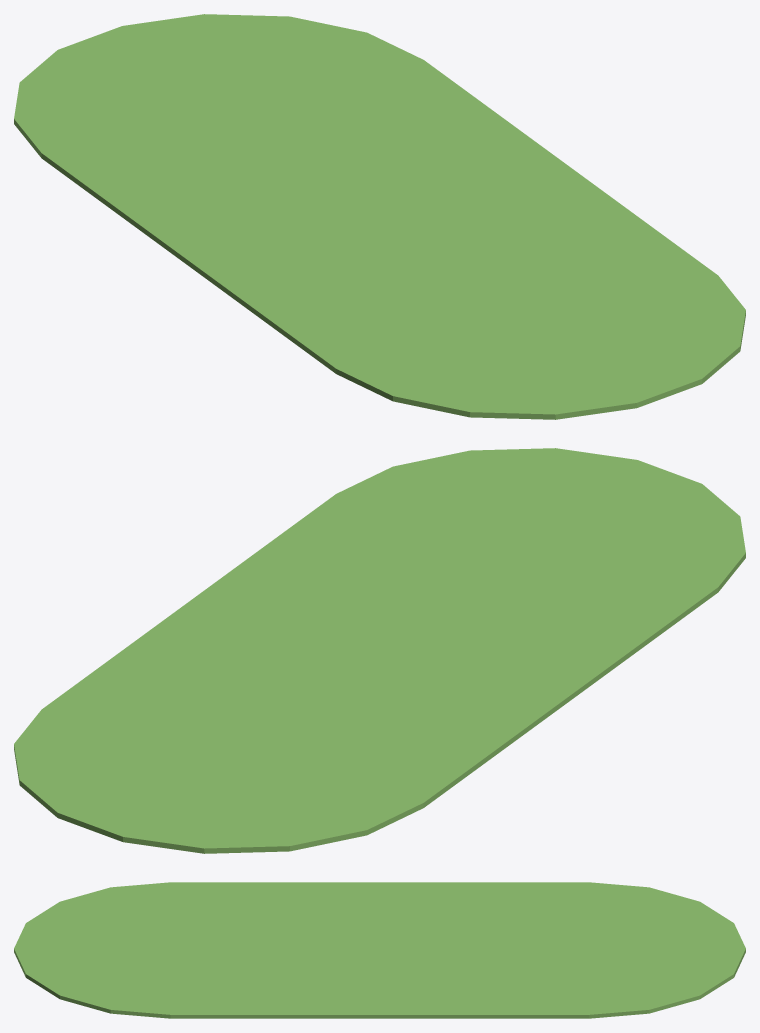
File: Int_Carpet03_1.fbx
The picture shows the model from 3 angles, top to bottom: view 1: azimuth 30°, elevation 25°; view 2: azimuth 150°, elevation 25°; view 3: azimuth 270°, elevation 25°; orthographic projection. The views are drawn at different scales.
Parts seen in each view (by area): view 1: Int_Carpet03_1; view 2: Int_Carpet03_1; view 3: Int_Carpet03_1.
Boxes of the visible parts, x1,y1,x2,y2 form: Int_Carpet03_1: (14, 14, 745, 419); Int_Carpet03_1: (14, 448, 745, 853); Int_Carpet03_1: (14, 882, 745, 1018).
Size of what is drawn, in the model's own units: 150 by 350 by 2.
